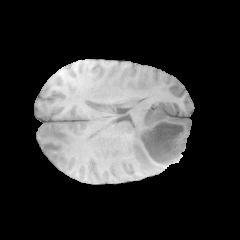glioma: (129, 103, 191, 169)
